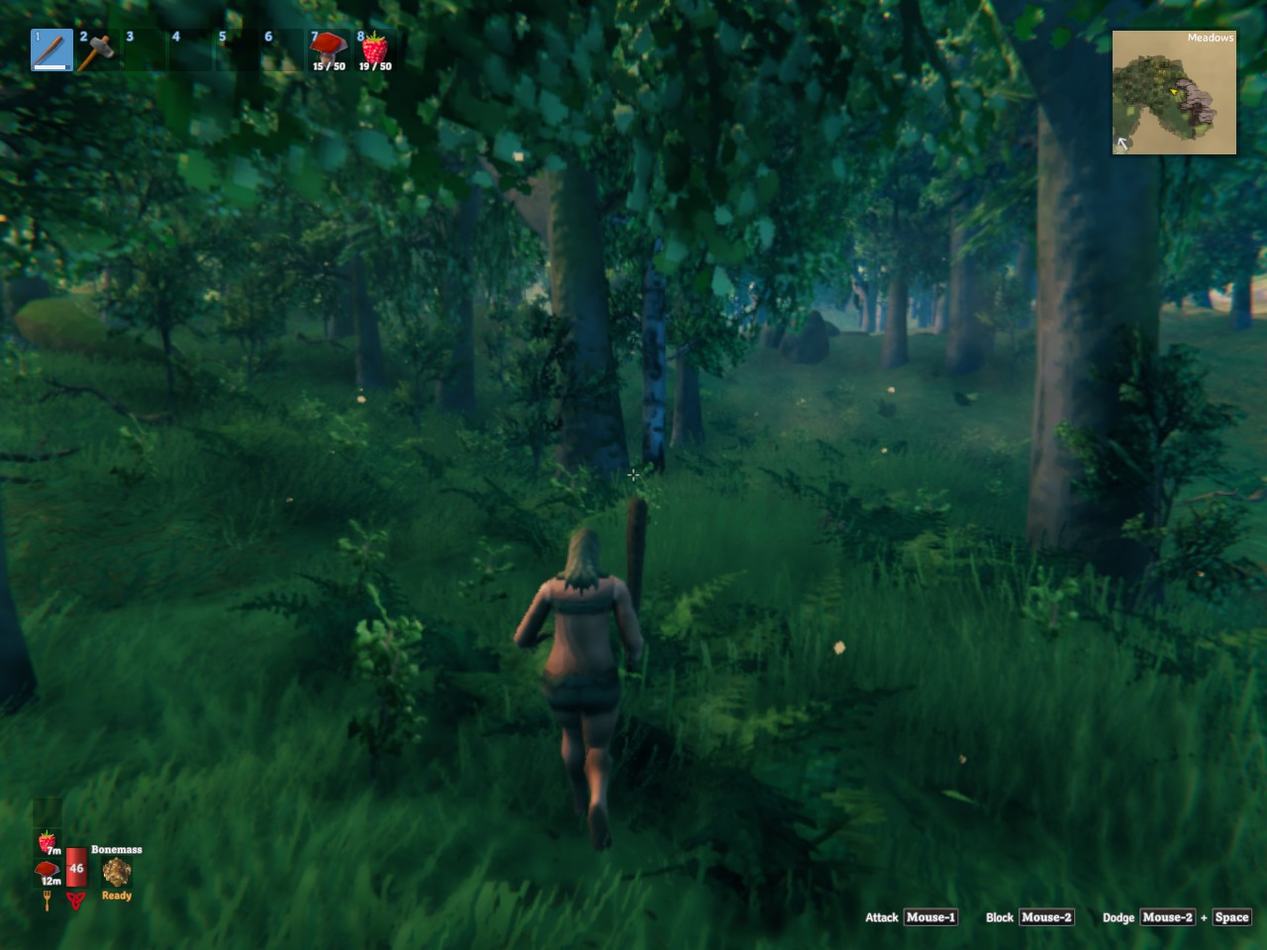Branch: (46, 378, 174, 424)
